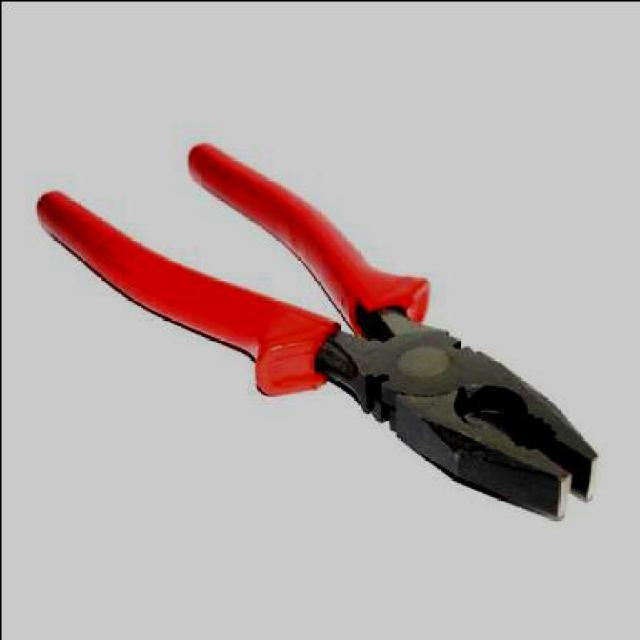pliers: (31, 142, 598, 518)
